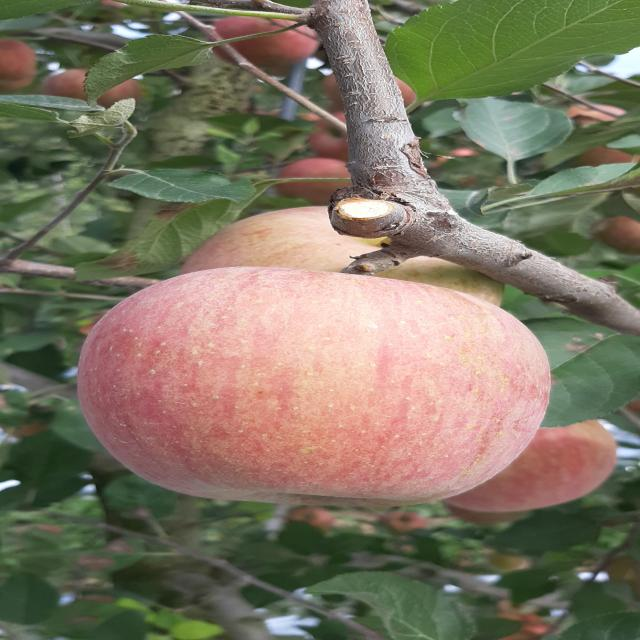fresh: (64, 262, 571, 519)
